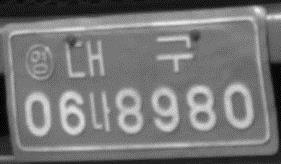0: (223, 82, 255, 129), (23, 90, 53, 138)
6: (57, 89, 87, 136)
8: (185, 84, 217, 132), (114, 87, 144, 136)
9: (150, 85, 181, 134)
나: (87, 90, 113, 134)
대구_D: (63, 32, 194, 80)
영: (25, 42, 55, 80)
